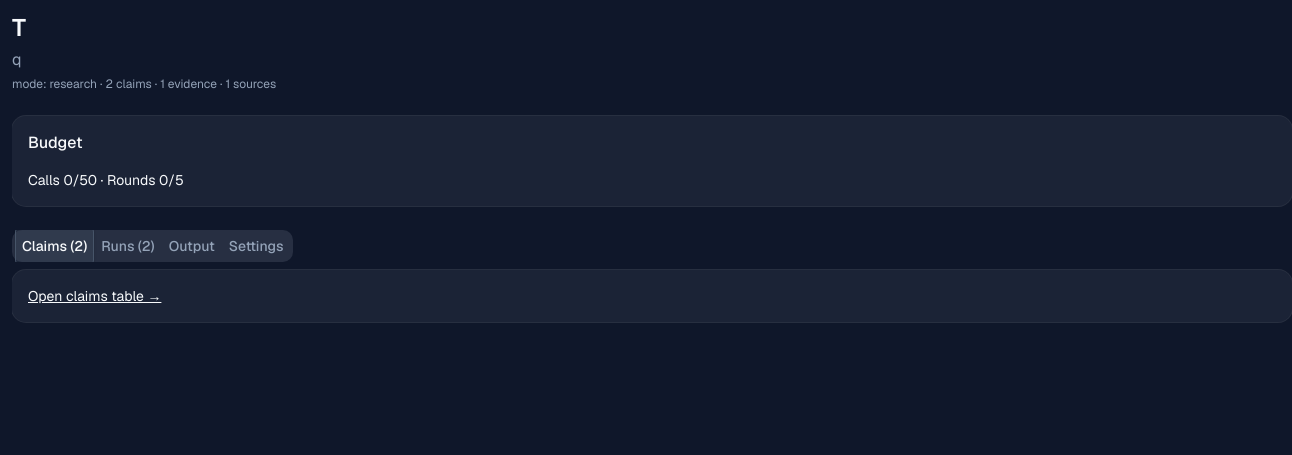
Test case: LabOverview › shows counted tabs and runs history with links
Check: the tab "Claims (2)" is shown, box top-left (15, 230), bottom-right (94, 262)
Check: the tab "Runs (2)" is shown, box top-left (94, 230), bottom-right (162, 262)
Click the tab "Runs (2)" at (128, 246), box top-left (94, 224), bottom-right (162, 268)
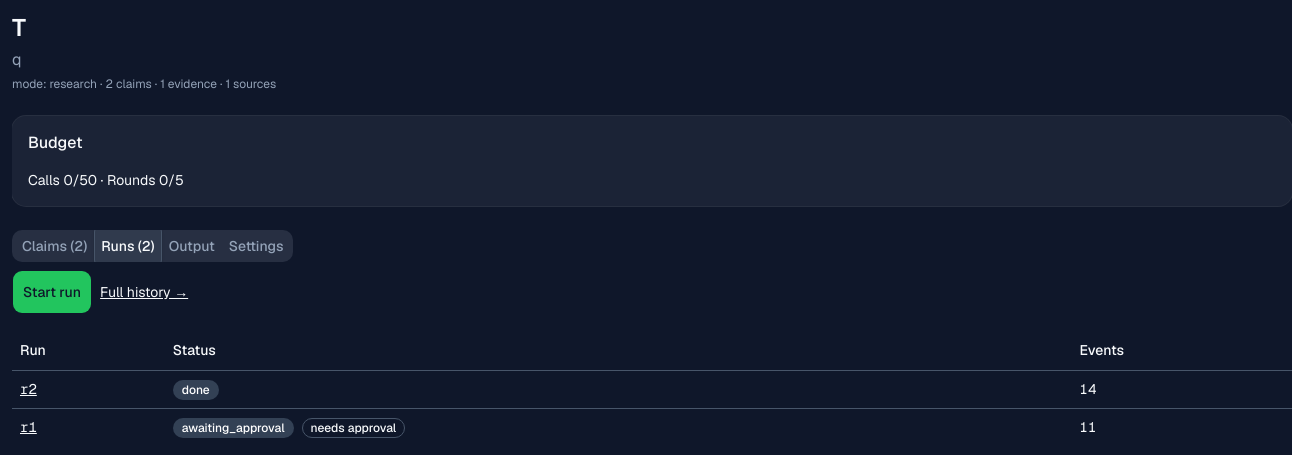
Check: the link "r2" is shown, box top-left (20, 380), bottom-right (37, 398)
Check: the text "needs approval" is shown, box top-left (302, 418), bottom-right (405, 438)
